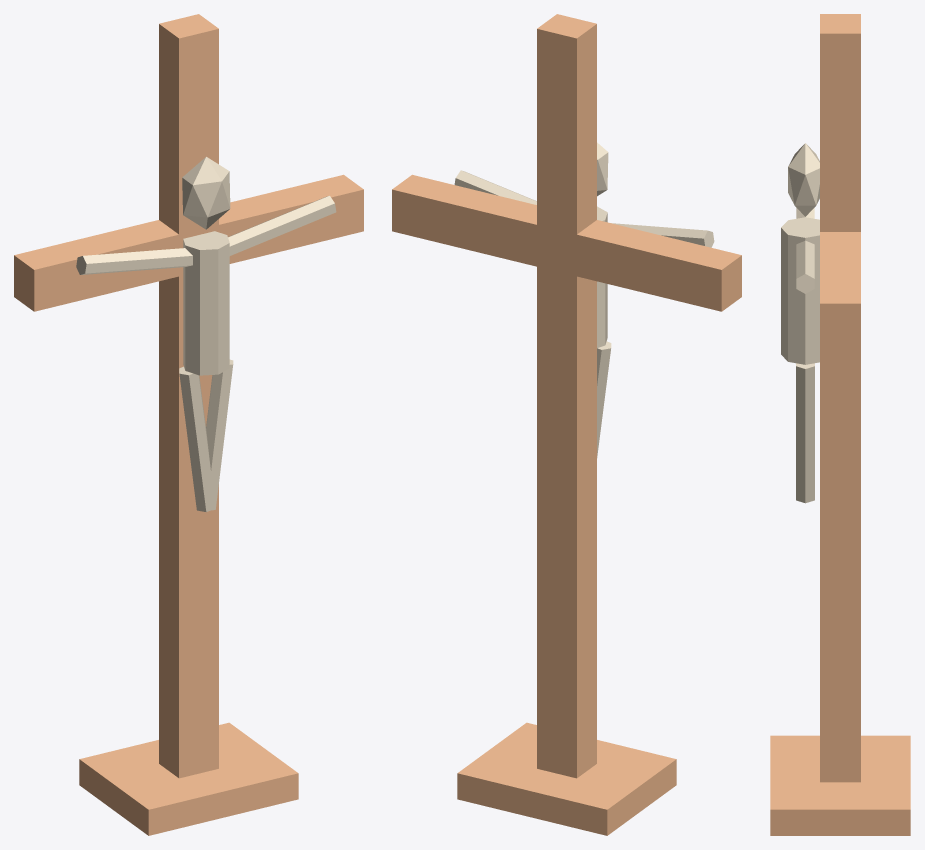
3 views of the same model, side by side, from view 1: azimuth 30°, elevation 25°; view 2: azimuth 150°, elevation 25°; view 3: azimuth 270°, elevation 25° (orthographic).
Visible parts, largest first — view 1: Upright, Crossbar, Base, Figure torso, Leg, Figure head, Extended arm, Extended arm.001, Leg.001; view 2: Upright, Crossbar, Base, Extended arm, Extended arm.001, Leg, Figure torso; view 3: Upright, Base, Figure torso, Crossbar, Leg.001, Figure head, Extended arm.001.
Boxes of the visible parts, x1,y1,x2,y2 form: Upright: [159, 14, 218, 778]; Crossbar: [14, 174, 363, 311]; Base: [79, 722, 298, 835]; Figure torso: [183, 231, 229, 375]; Leg: [179, 366, 215, 512]; Figure head: [182, 156, 230, 229]; Extended arm: [76, 248, 192, 274]; Extended arm.001: [228, 195, 336, 255]; Leg.001: [206, 359, 233, 510]; Upright: [537, 14, 596, 778]; Crossbar: [392, 174, 741, 311]; Base: [457, 722, 676, 835]; Extended arm: [611, 223, 714, 247]; Extended arm.001: [454, 170, 536, 204]; Leg: [597, 341, 611, 457]; Figure torso: [597, 206, 607, 347]; Upright: [820, 14, 860, 782]; Base: [770, 735, 910, 835]; Figure torso: [781, 217, 819, 364]; Crossbar: [820, 232, 860, 345]; Leg.001: [796, 363, 814, 503]; Figure head: [788, 143, 819, 216]; Extended arm.001: [796, 240, 814, 293].
Size of the model in its own units: 66 by 147 by 24.
